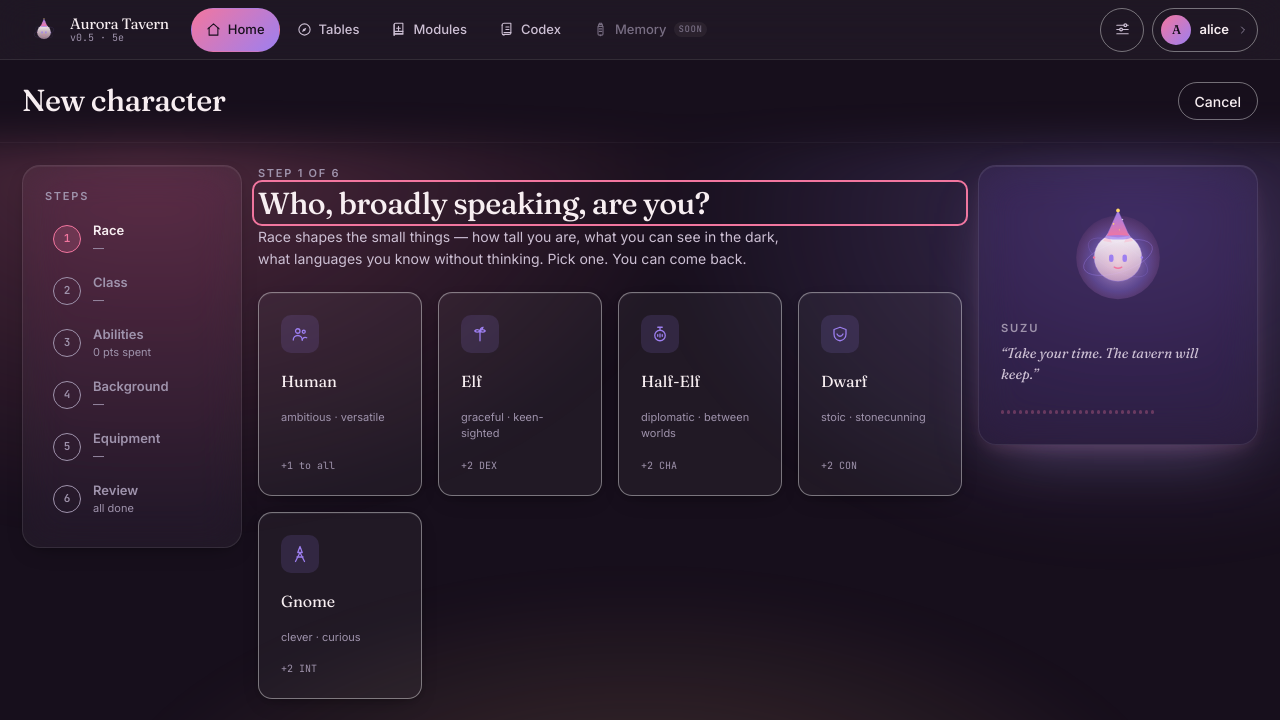
Scenario: Character creation wizard › disables Continue until a race is selected (ST-047)
The width and height of the screenshot is (1280, 720).
What coordinates should you click on to do the following:
click the radio button labelled "Human ambitious · versatile +1 to all"
I would click on:
 (340, 394)
Its box is [258,292,422,496].
(page scrolled)
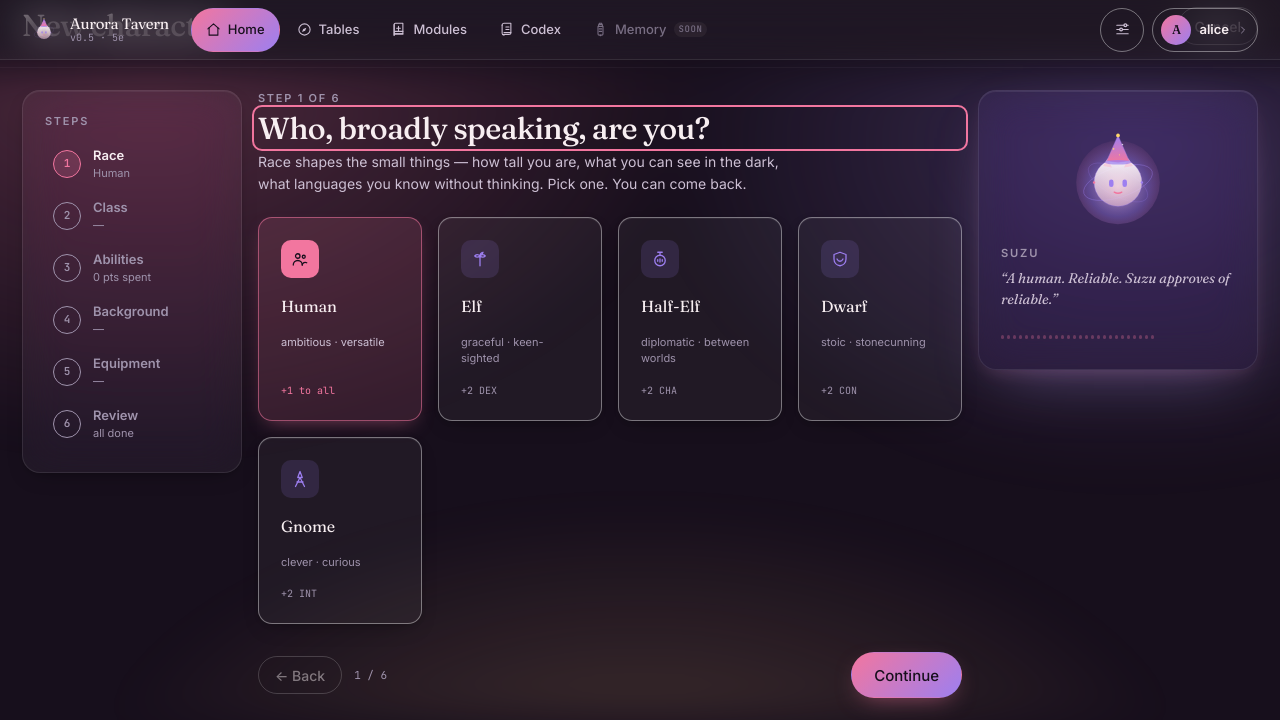
expect the button "Continue" is enabled: met, box [851,652,962,698]
